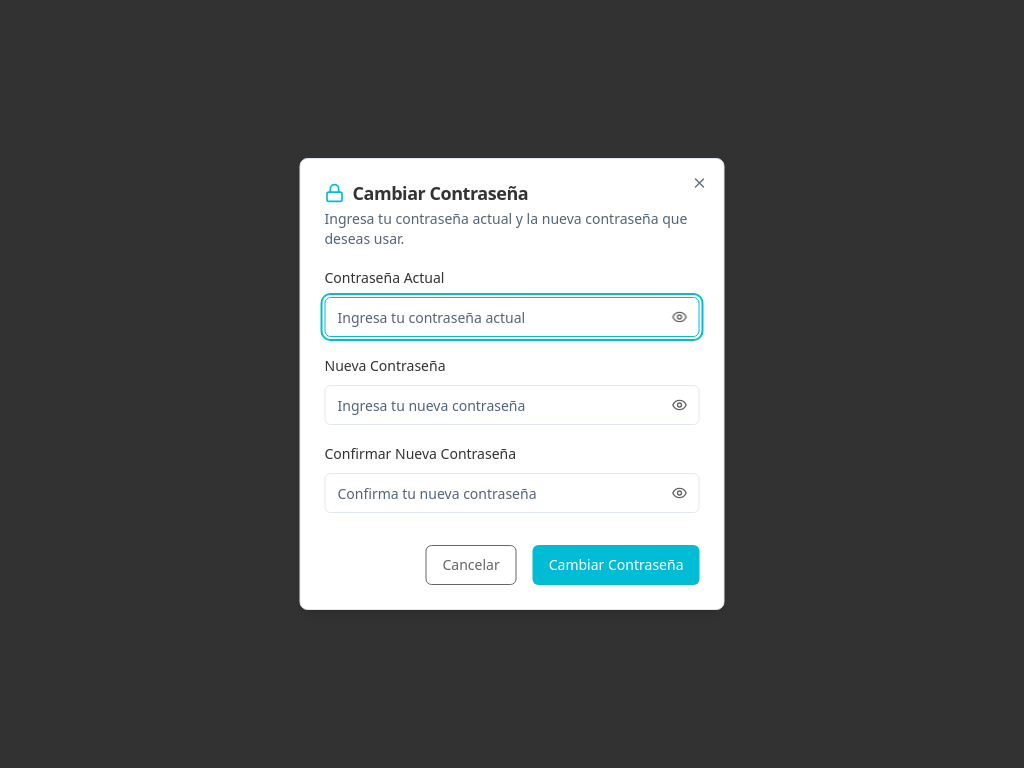
ChangePasswordModal › shows password mismatch error
Type "currentpass" into the password field labelled "Contraseña Actual" at (512, 317), box [324,297,700,337]
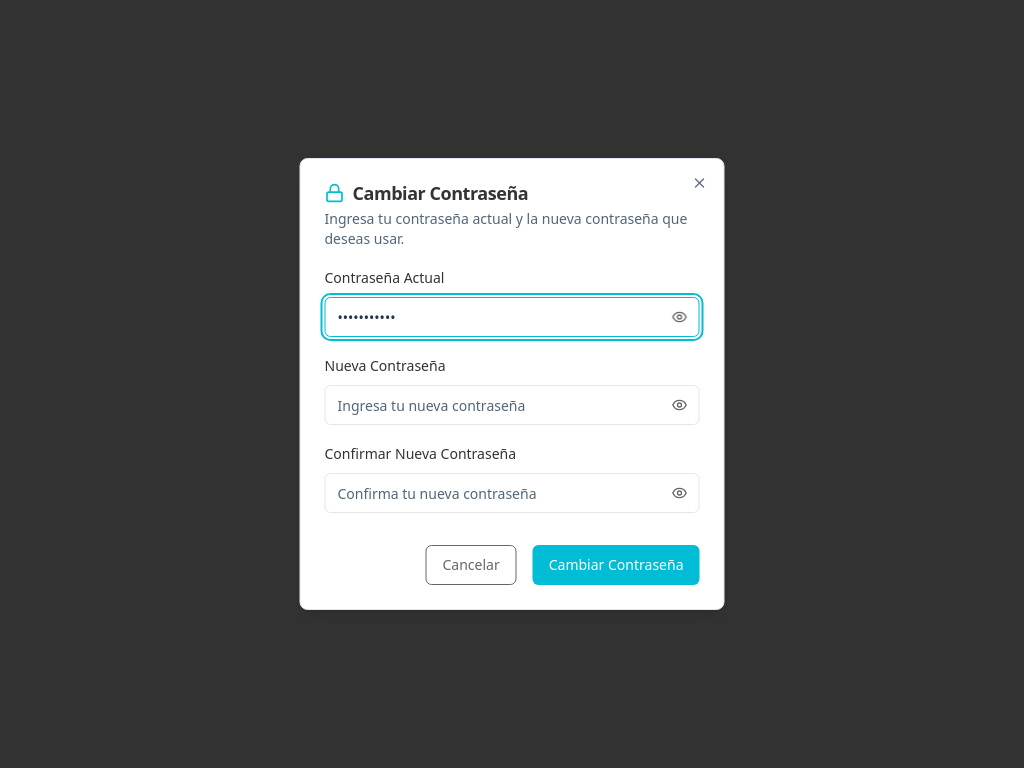
Type "newpass123" into the password field labelled "Nueva Contraseña" at (512, 405), box [324,385,700,425]
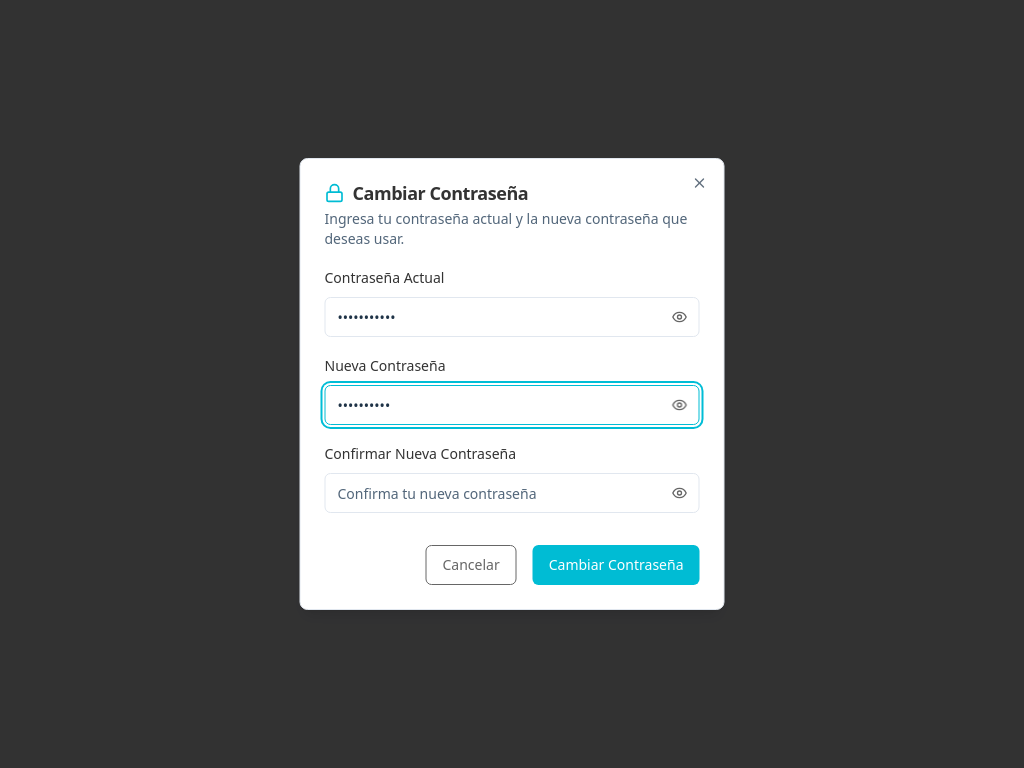
Type "differentpass" into the password field labelled "Confirmar Nueva Contraseña" at (512, 493), box [324,473,700,513]
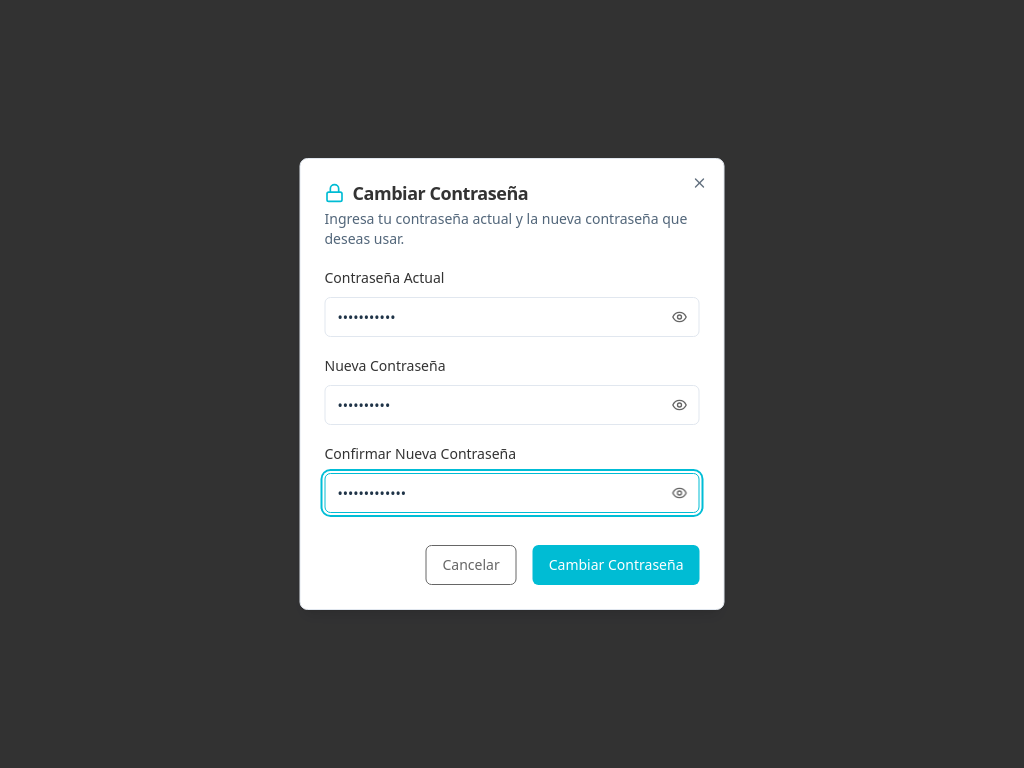
Click the button "Cambiar Contraseña" at (616, 565), box [533,545,700,585]
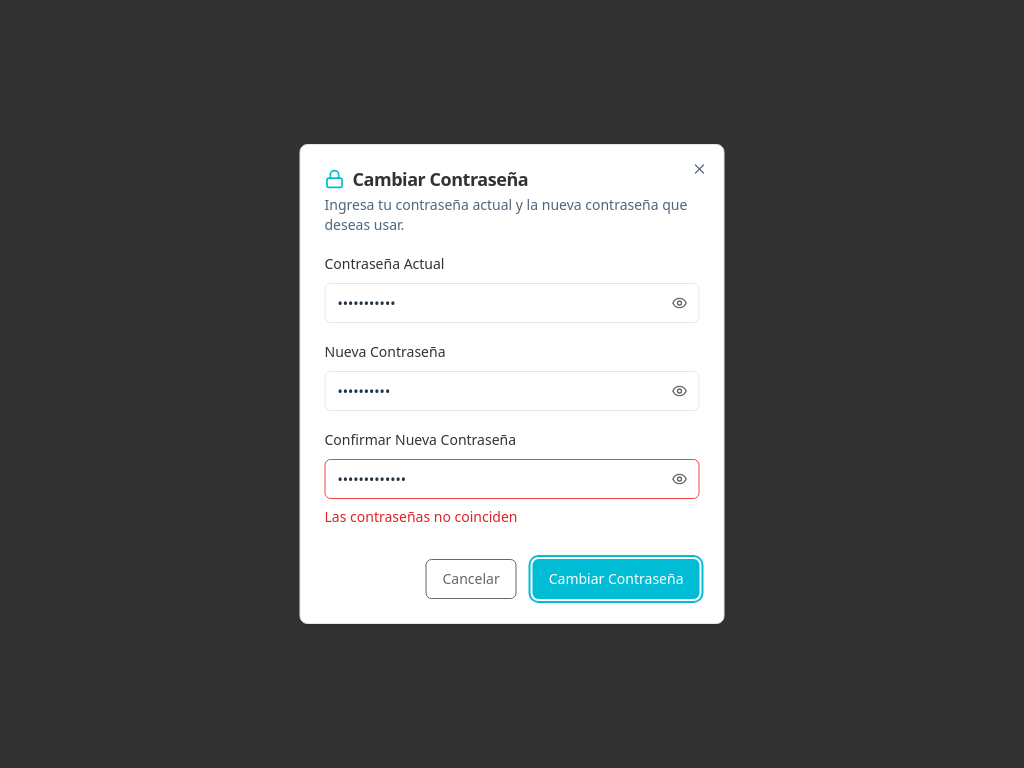
Result: the text "Las contraseñas no coinciden" is shown at [324,507,518,526]
